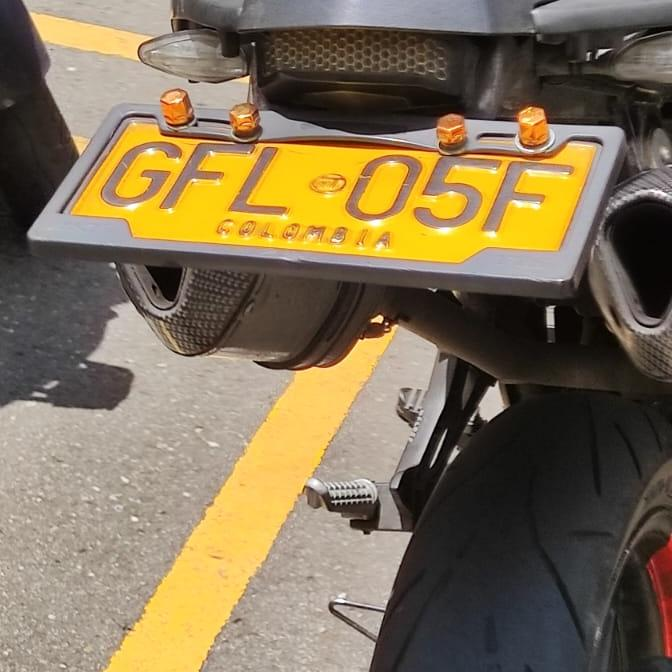plates: (34, 104, 614, 279)
